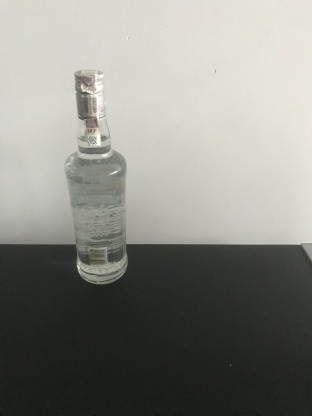nakretka: (72, 67, 107, 121)
